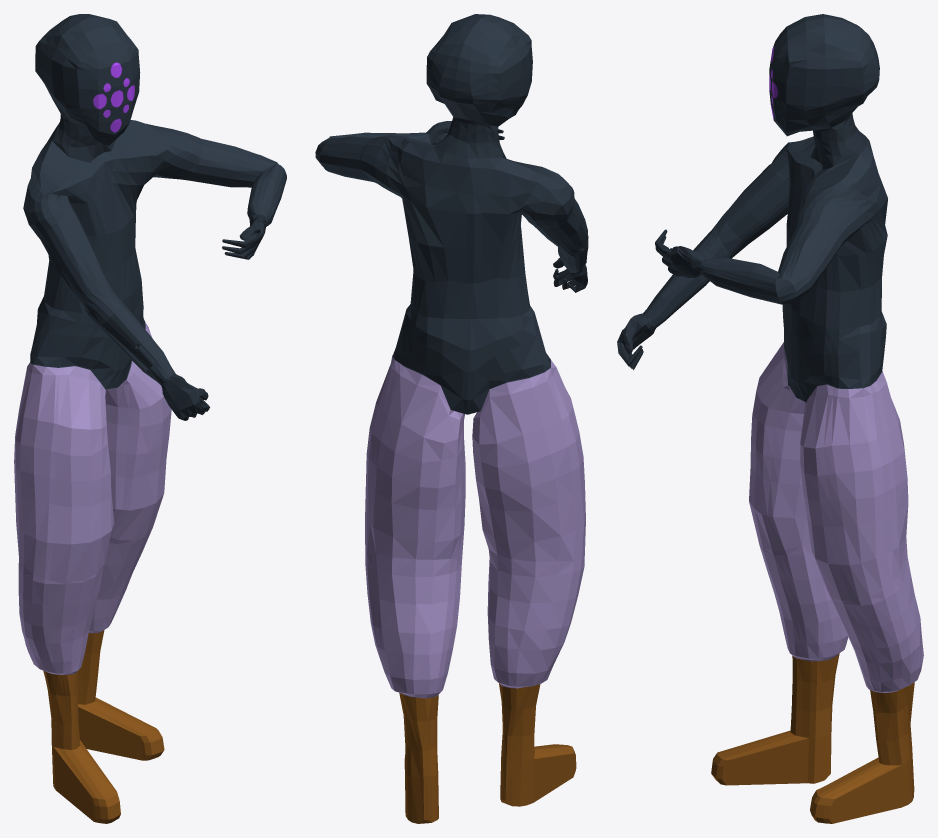
The model's file is Oracle_Reload_000005.obj.
3 views of the same model, side by side, from view 1: azimuth 30°, elevation 25°; view 2: azimuth 150°, elevation 25°; view 3: azimuth 270°, elevation 25° (orthographic). The views are drawn at different scales.
Visible parts, largest first — view 1: Cube; view 2: Cube; view 3: Cube.
Part boxes in pixels (left/top/right/bottom): Cube: left=14, top=14, right=286, bottom=823; Cube: left=315, top=14, right=588, bottom=823; Cube: left=617, top=14, right=923, bottom=823.
Bounding box in the file's own units: 1.4 × 3.94 × 1.41.
